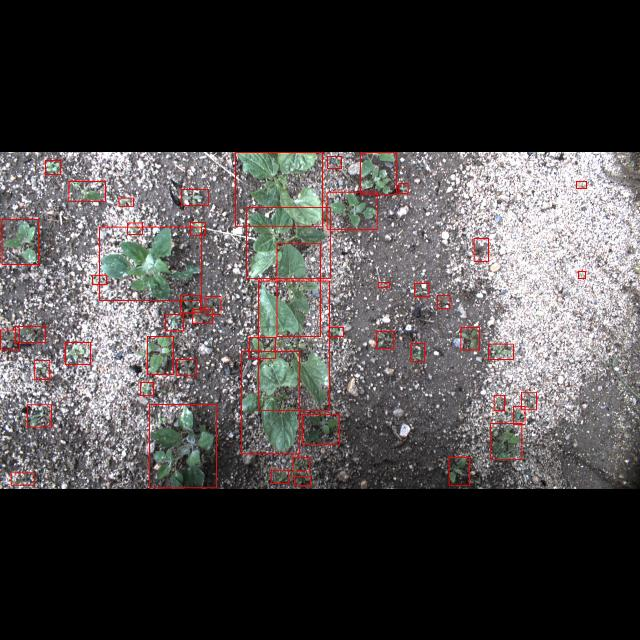crop: (258, 280, 329, 410), (235, 151, 322, 225), (246, 206, 330, 278), (242, 351, 300, 454), (277, 242, 321, 336)
weed: (99, 226, 201, 300), (150, 404, 217, 488), (327, 191, 377, 229), (1, 218, 38, 264), (360, 151, 396, 193), (491, 422, 522, 460), (302, 414, 340, 444), (147, 336, 173, 374), (68, 180, 105, 200), (248, 337, 276, 358), (448, 457, 469, 485), (66, 342, 90, 364), (27, 404, 51, 426), (15, 326, 45, 342), (460, 327, 480, 349), (182, 189, 208, 205), (488, 343, 514, 359), (1, 329, 20, 349), (180, 294, 200, 312), (376, 330, 394, 348), (34, 359, 50, 379), (176, 359, 196, 375), (474, 238, 488, 260), (166, 314, 184, 331), (192, 309, 212, 323), (411, 342, 425, 362), (12, 473, 34, 485), (206, 296, 220, 314), (292, 457, 310, 471), (522, 391, 536, 409), (45, 159, 61, 173), (190, 221, 206, 235), (272, 469, 288, 483), (414, 282, 430, 296), (140, 382, 154, 396), (514, 406, 524, 424), (128, 222, 142, 234), (438, 294, 450, 308), (327, 155, 341, 167), (294, 476, 310, 486), (328, 326, 344, 336), (92, 274, 106, 284), (494, 396, 504, 410), (118, 197, 134, 205), (398, 183, 408, 193), (577, 180, 587, 188), (578, 270, 586, 278), (378, 282, 389, 286)
